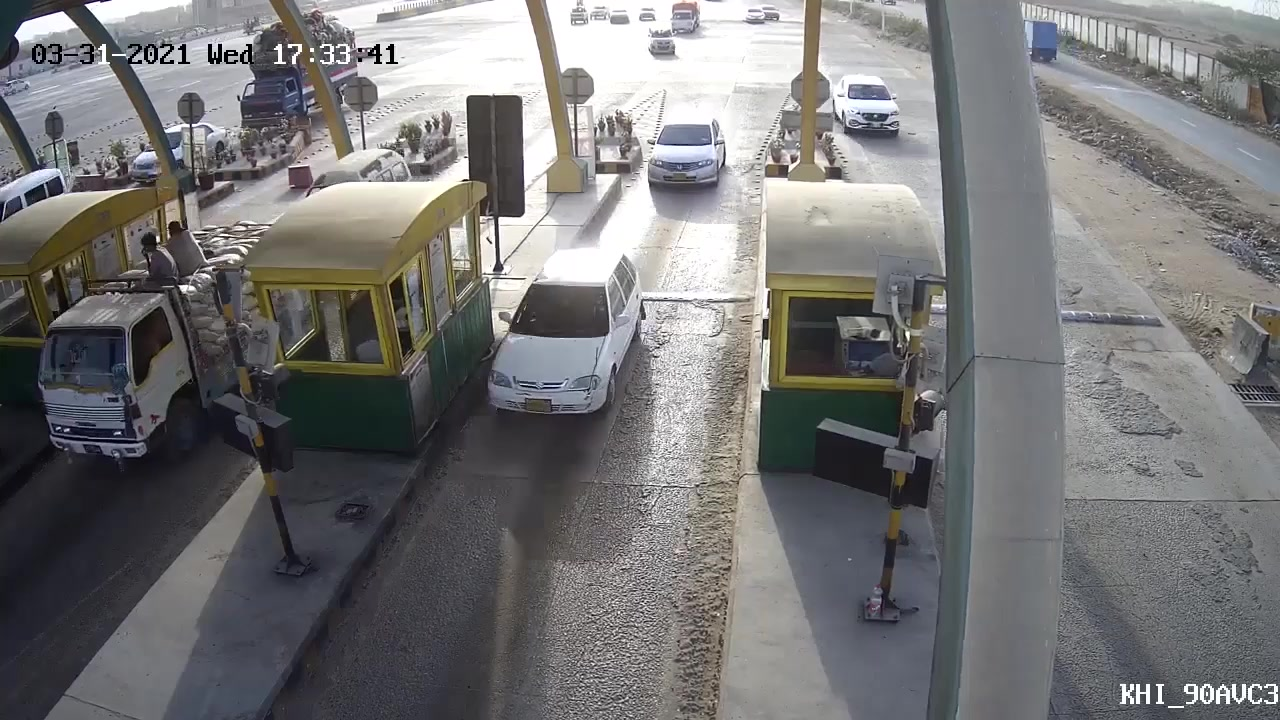F1: (479, 235, 644, 427)
